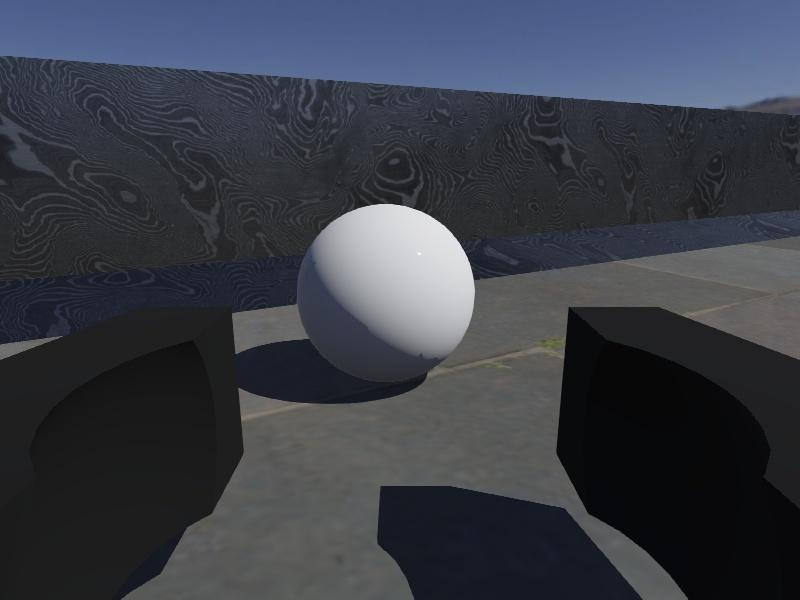white ball: (295, 202, 475, 384)
